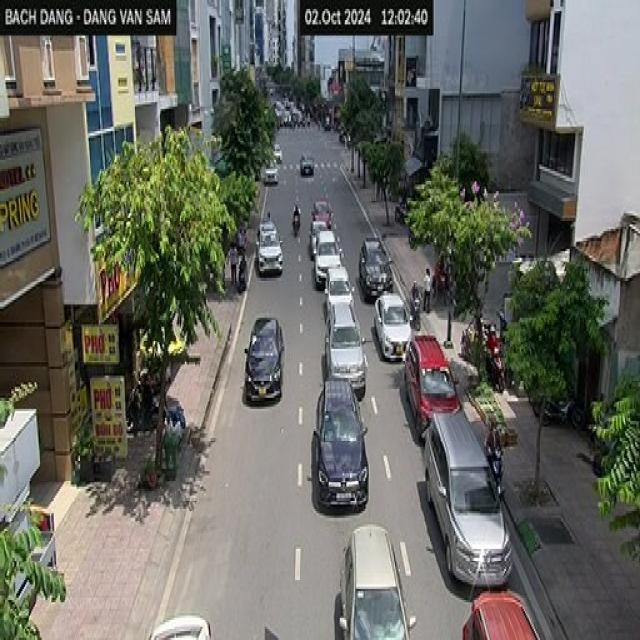car: (422, 409, 512, 587), (332, 522, 417, 638), (311, 376, 369, 511), (402, 333, 462, 438), (322, 298, 368, 398), (461, 589, 540, 638), (242, 316, 284, 402), (372, 291, 412, 360), (358, 236, 392, 300), (149, 613, 211, 638), (262, 158, 278, 184), (298, 151, 314, 176)
motorcycle: (235, 244, 247, 294)
person: (422, 267, 432, 313), (291, 202, 300, 234)
